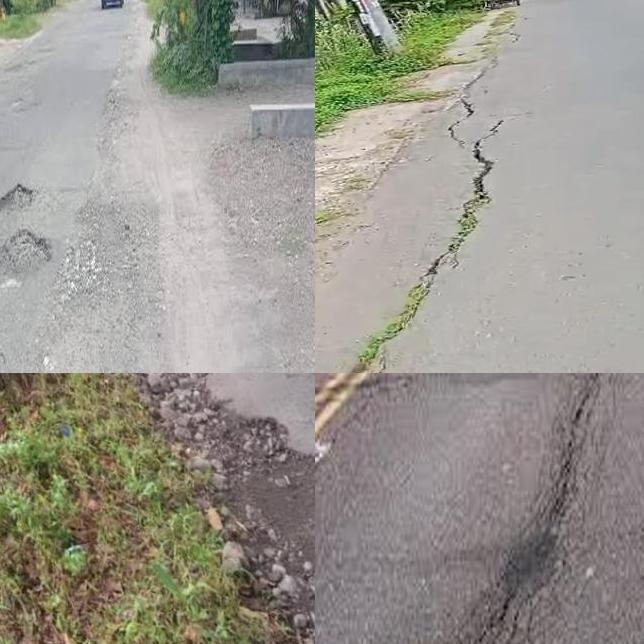Lubang: (0, 228, 47, 285)
Melintang: (315, 373, 613, 413)
Memanjang: (343, 128, 518, 373), (454, 373, 609, 644)
Pinggir: (128, 373, 315, 644)
